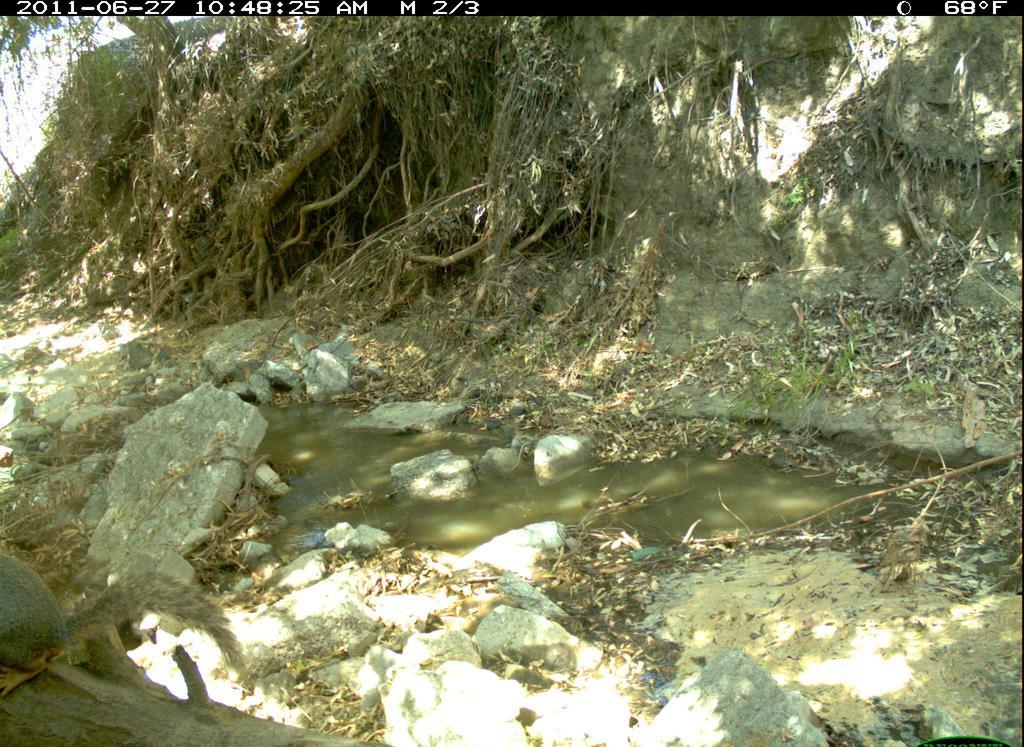squirrel: (3, 536, 250, 708)
